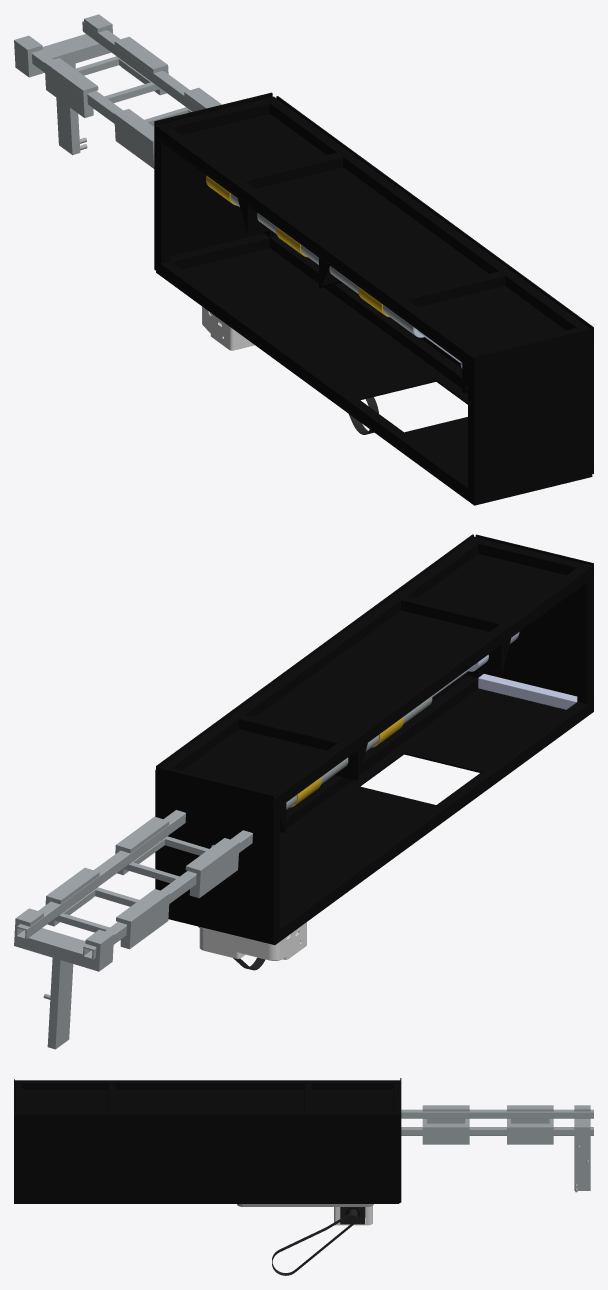
The picture shows the model from 3 angles, top to bottom: view 1: azimuth 30°, elevation 25°; view 2: azimuth 150°, elevation 25°; view 3: azimuth 270°, elevation 25°; orthographic projection. The views are drawn at different scales.
Parts seen in each view (by area): view 1: 15x70b-1, 15x70-1, tapas-2, 70cm(4)-4, 70cm(4)-8, 70cm(4)-5, tapas2-1, porta ventiladores-2, portafila-1, 70cm(4)-9, porta ventiladores-1, 35cm-4 (+10 smaller); view 2: 15x70b-1, 15x70-1, tapas2-1, 70cm(4)-4, 70cm(4)-8, 70cm(4)-5, tapas-2, portafila-1, porta ventiladores-1, porta ventiladores-2, 70cm(4)-9, LTS+Respooler+V4+full+3D+Model.step-1/Base.step-1 (+10 smaller); view 3: 7817.8x65.5(2)-1, 15x70b-1, 70cm(4)-4, 35cm2-1, LTS+Respooler+V4+full+3D+Model.step-1/Base.step-1, porta ventiladores-1, porta ventiladores-2, portafila-1, 70cm(4)-5, 35cm2-2, 15x70-1, 35cm-5.
Part boxes in pixels (box(x1,y1,x2,y2)): 15x70b-1: box(161, 114, 565, 365); 15x70-1: box(156, 248, 592, 505); tapas-2: box(473, 328, 591, 505); 70cm(4)-4: box(155, 123, 481, 368); 70cm(4)-8: box(155, 260, 473, 502); 70cm(4)-5: box(264, 96, 592, 339); tapas2-1: box(154, 92, 272, 269); porta ventiladores-2: box(44, 36, 168, 117); portafila-1: box(14, 14, 112, 155); 70cm(4)-9: box(269, 236, 592, 474); porta ventiladores-1: box(114, 87, 221, 168); 35cm-4: box(155, 136, 170, 263); 15x70b-1: box(182, 554, 586, 806); 15x70-1: box(171, 688, 593, 944); tapas2-1: box(156, 767, 274, 944); 70cm(4)-4: box(268, 563, 592, 808); 70cm(4)-8: box(274, 700, 592, 943); 70cm(4)-5: box(155, 536, 483, 780); tapas-2: box(475, 534, 593, 710); portafila-1: box(14, 908, 114, 1049); porta ventiladores-1: box(115, 816, 239, 898); porta ventiladores-2: box(45, 867, 169, 949); 70cm(4)-9: box(280, 675, 478, 832); LTS+Respooler+V4+full+3D+Model.step-1/Base.step-1: box(198, 922, 306, 970); 7817.8x65.5(2)-1: box(15, 1114, 397, 1203); 15x70b-1: box(22, 1089, 392, 1112); 70cm(4)-4: box(15, 1080, 400, 1089); 35cm2-1: box(401, 1109, 593, 1118); LTS+Respooler+V4+full+3D+Model.step-1/Base.step-1: box(237, 1204, 373, 1275); porta ventiladores-1: box(422, 1105, 469, 1144); porta ventiladores-2: box(507, 1105, 553, 1144); portafila-1: box(574, 1105, 590, 1192); 70cm(4)-5: box(15, 1112, 400, 1121); 35cm2-2: box(401, 1127, 593, 1135); 15x70-1: box(14, 1202, 399, 1203); 35cm-5: box(397, 1121, 400, 1196).
Size of the model in its own units: 0.153 by 0.3267 by 1.05.
